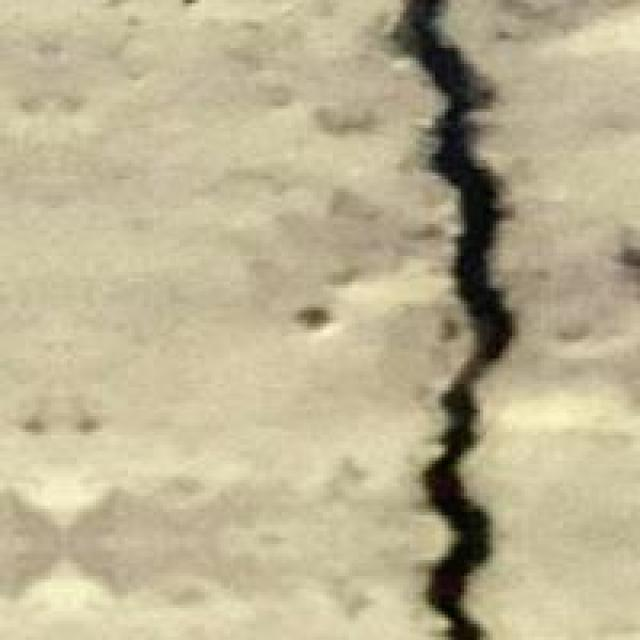Crack: (294, 0, 532, 637)
